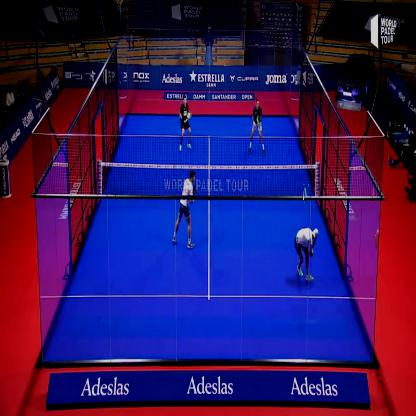ball: (304, 184, 310, 204)
